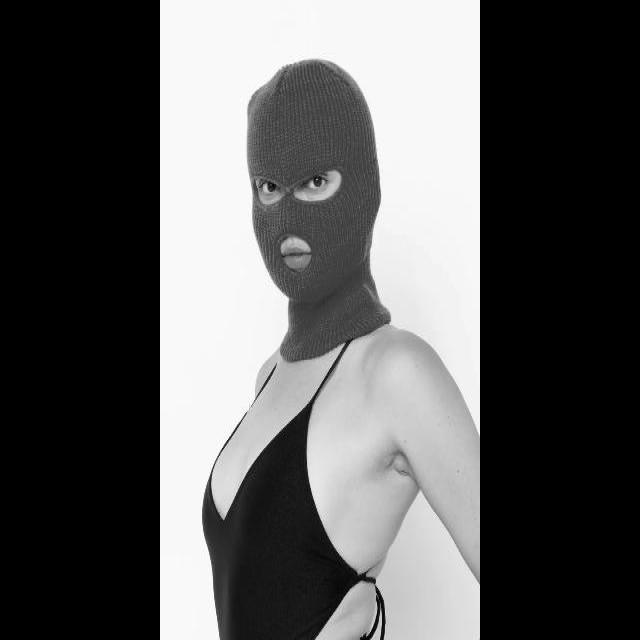6_pasamontana: (246, 59, 392, 362)
